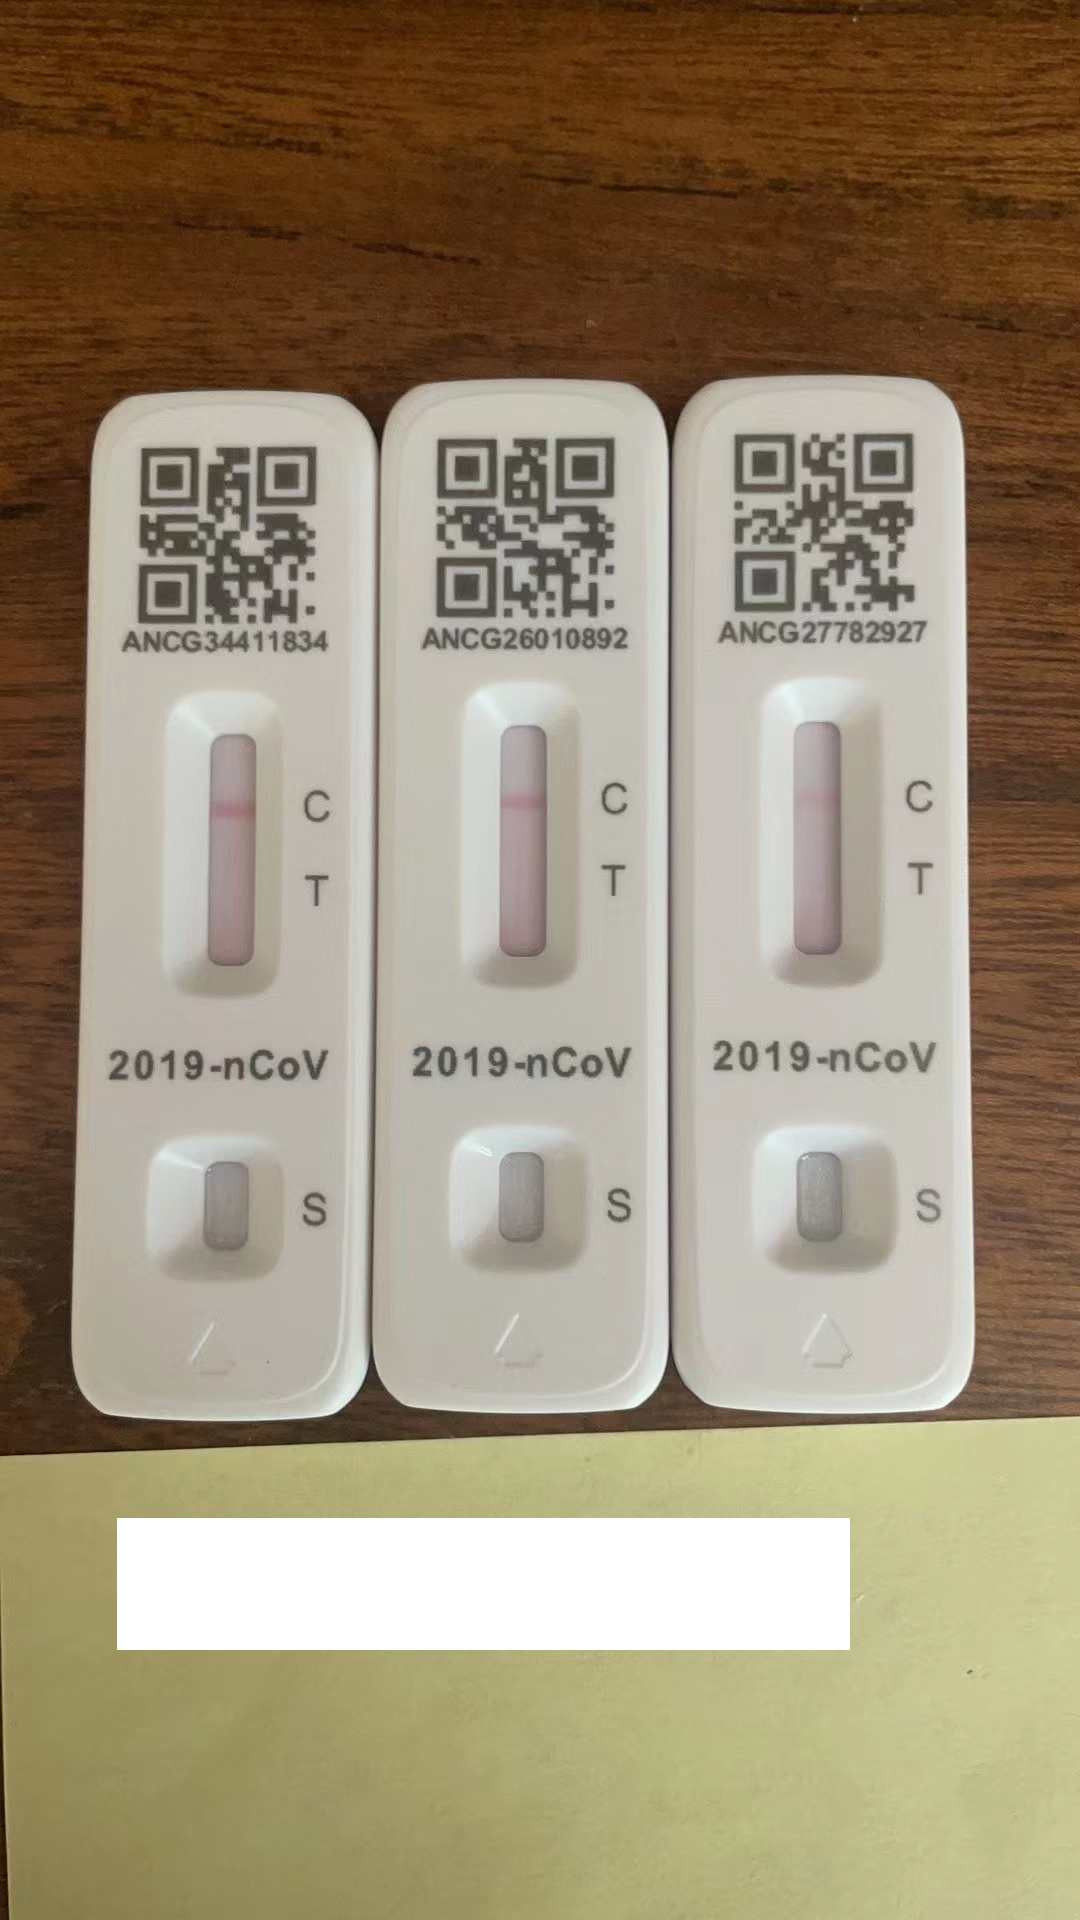negative: (167, 695, 282, 1010), (765, 684, 878, 1002), (468, 682, 578, 1004)
